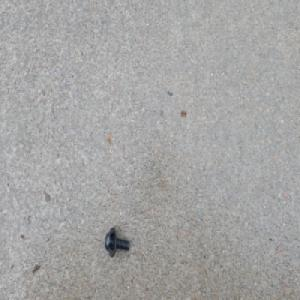BoltWasher: (104, 227, 130, 258)
